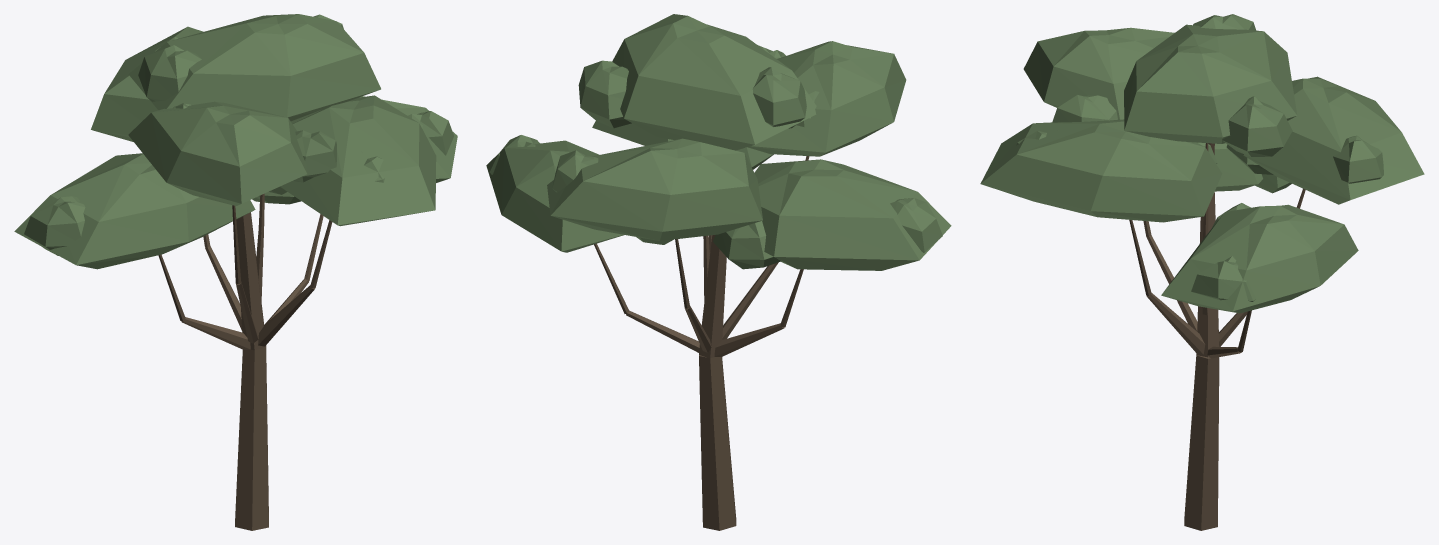
Rendered from field-tree-spreading-lite.glb.
3 renders of one model, left to right at view 1: azimuth 30°, elevation 25°; view 2: azimuth 150°, elevation 25°; view 3: azimuth 270°, elevation 25°, orthographic.
Visible parts, largest first — view 1: field-tree-spreading-lite / crown, field-tree-spreading-lite / trunk; view 2: field-tree-spreading-lite / crown, field-tree-spreading-lite / trunk; view 3: field-tree-spreading-lite / crown, field-tree-spreading-lite / trunk.
Boxes of the visible parts, box(x1,y1,x2,y2) form: field-tree-spreading-lite / crown: box(14, 14, 457, 269); field-tree-spreading-lite / trunk: box(158, 193, 332, 530); field-tree-spreading-lite / crown: box(486, 14, 951, 270); field-tree-spreading-lite / trunk: box(594, 156, 809, 530); field-tree-spreading-lite / crown: box(980, 14, 1424, 313); field-tree-spreading-lite / trunk: box(1129, 143, 1305, 530).
Size of the model in its own units: 7.3 by 7.86 by 6.43.
